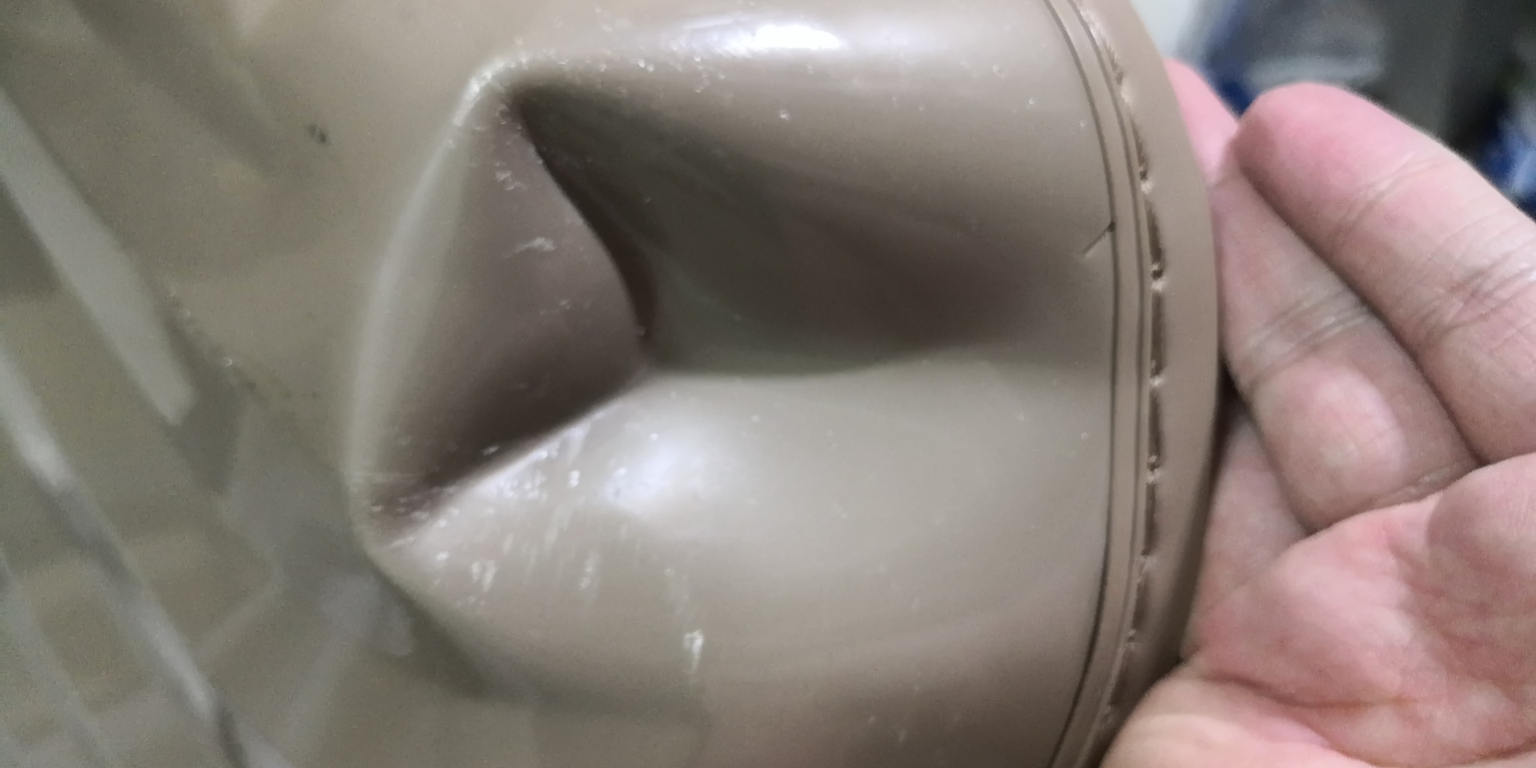rupture: (343, 51, 1115, 690)
